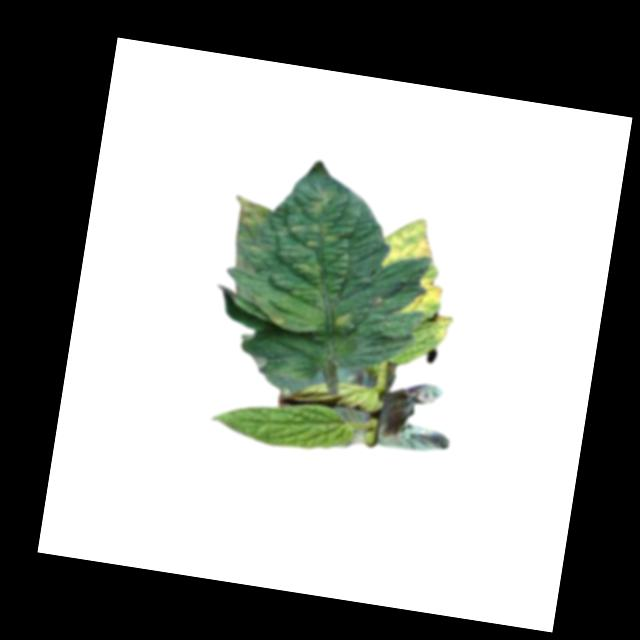Leaf_Mold: (282, 184, 346, 287), (378, 212, 438, 274), (397, 273, 445, 323), (227, 191, 277, 234), (332, 304, 365, 340), (269, 309, 288, 329)
